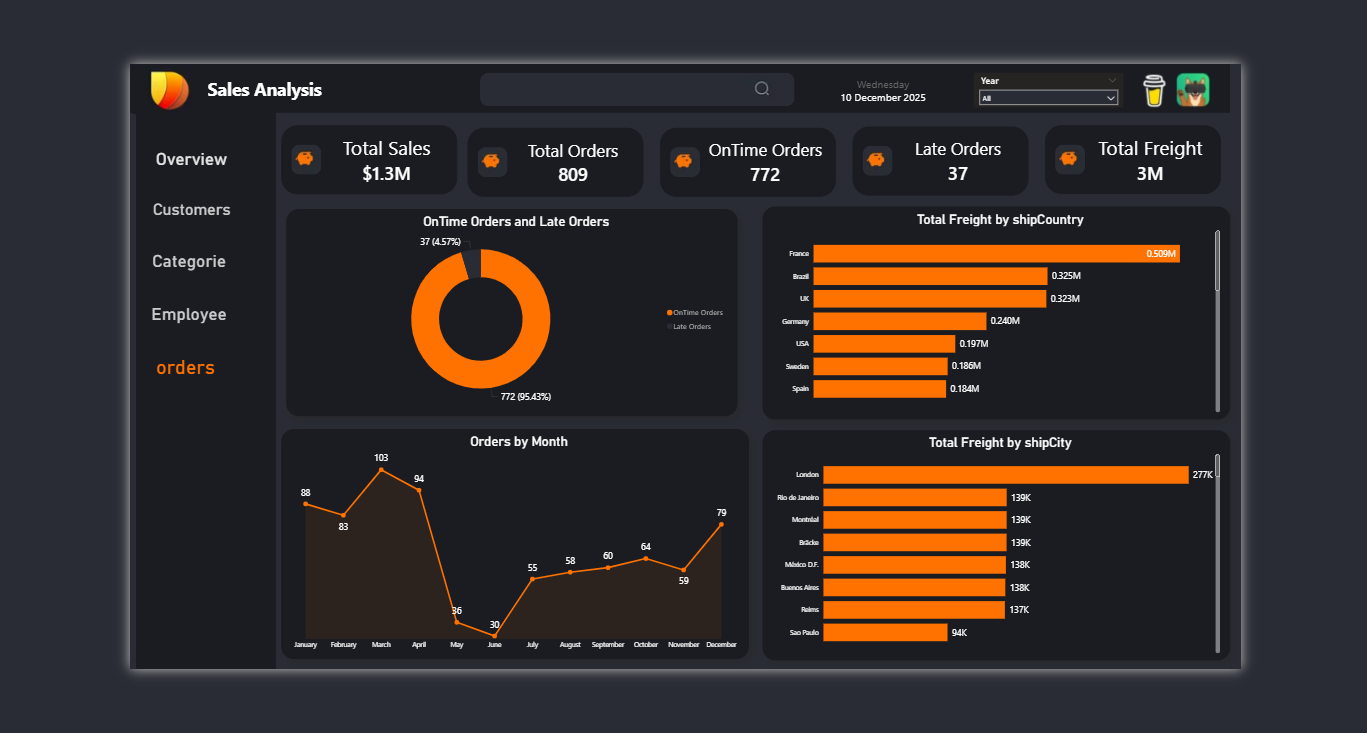

This screenshot's page, from the dashboard's own definition file:
{"tool":"powerbi","page":{"name":"Order","canvas":[2020,1100],"ordinal":4},"visuals":[{"type":"shape","box":[0,0,2000,88.9],"z":0},{"type":"shape","box":[0,11.4,254.5,1088.6],"z":1000},{"type":"actionButton","title":"Customers","box":[68.2,243.2,143.2,40.9],"z":2000},{"type":"actionButton","title":"Categories","box":[65.9,347.7,143.2,40.9],"z":3000},{"type":"actionButton","title":"orders","box":[54.5,536.4,143.2,40.9],"z":4000},{"type":"actionButton","title":"Employee","box":[65.9,450,143.2,40.9],"z":5000},{"type":"shape","box":[637,14.8,572.2,61.1],"z":6000},{"type":"textbox","box":[1259.3,18.5,220.4,61.1],"z":7000},{"type":"image","box":[1775.9,9.3,168.5,75.9],"z":8000},{"type":"image","box":[1861.1,5.6,138.9,75.9],"z":9000},{"type":"image","box":[0,1.9,116.7,88.9],"z":10000},{"type":"textbox","box":[127.8,18.5,309.3,66.7],"z":11000},{"type":"image","box":[1085.2,22.2,124.1,48.1],"z":12000},{"type":"actionButton","title":"Overview","box":[65.9,156.8,143.2,40.9],"z":13000},{"type":"slicer","fields":{"Values":["order_Dim.orderDate.Variation.Date Hierarchy.Year"]},"box":[1535.2,14.8,272.2,63],"z":14000},{"type":"cardVisual","fields":{"Data":["MeasureDAX.Total Sales"]},"box":[275.9,111.9,320.4,125.9],"z":15000},{"type":"cardVisual","fields":{"Data":["MeasureDAX.Total Orders"]},"box":[614.5,115.3,320,125.9],"z":16000},{"type":"cardVisual","fields":{"Data":["MeasureDAX.Late Orders"]},"box":[1313.2,113.6,320.4,125.9],"z":17000},{"type":"cardVisual","fields":{"Data":["MeasureDAX.OnTime Orders"]},"box":[963.9,117,320,125.9],"z":18000},{"type":"cardVisual","fields":{"Data":["MeasureDAX.Total Freight"]},"box":[1663,111.1,320.4,125],"z":19000},{"type":"barChart","fields":{"Category":["order_Dim.shipCountry"],"Y":["MeasureDAX.Total Freight"]},"box":[1150,258.3,850,387.5],"z":20000},{"type":"donutChart","fields":{"Y":["MeasureDAX.OnTime Orders","MeasureDAX.Late Orders"]},"box":[283.3,262.5,820.8,377.1],"z":21000},{"type":"lineChart","title":"Orders by Month","fields":{"Category":["order_Dim.orderDate.Variation.Date Hierarchy.Month"],"Y":["CountNonNull(order_Dim.orderID)"]},"box":[275,664.6,850,418.8],"z":22000},{"type":"barChart","fields":{"Y":["MeasureDAX.Total Freight"],"Category":["order_Dim.shipCity"]},"box":[1150,666.7,850,418.8],"z":23000}]}

Visuals, with their boxes in screenshot pixels (x1, y1, x2, y2), scaled from the page's 2020x1100 canvas onto the 1367x733 screenshot:
shape: (0,0,1353,59)
shape: (0,8,172,732)
"Customers" actionButton: (46,162,143,189)
"Categories" actionButton: (45,232,142,259)
"orders" actionButton: (37,357,134,385)
"Employee" actionButton: (45,300,142,327)
shape: (431,10,818,51)
textbox: (852,12,1001,53)
image: (1202,6,1316,57)
image: (1259,4,1353,54)
image: (0,1,79,61)
textbox: (86,12,296,57)
image: (734,15,818,47)
"Overview" actionButton: (45,104,142,132)
slicer - order_Dim.orderDate.Variation.Date Hierarchy.Year: (1039,10,1223,52)
cardVisual - MeasureDAX.Total Sales: (187,75,404,158)
cardVisual - MeasureDAX.Total Orders: (416,77,632,161)
cardVisual - MeasureDAX.Late Orders: (889,76,1106,160)
cardVisual - MeasureDAX.OnTime Orders: (652,78,869,162)
cardVisual - MeasureDAX.Total Freight: (1125,74,1342,157)
barChart - order_Dim.shipCountry x MeasureDAX.Total Freight: (778,172,1353,430)
donutChart - MeasureDAX.OnTime Orders x MeasureDAX.Late Orders: (192,175,747,426)
"Orders by Month" lineChart: (186,443,761,722)
barChart - MeasureDAX.Total Freight x order_Dim.shipCity: (778,444,1353,723)
